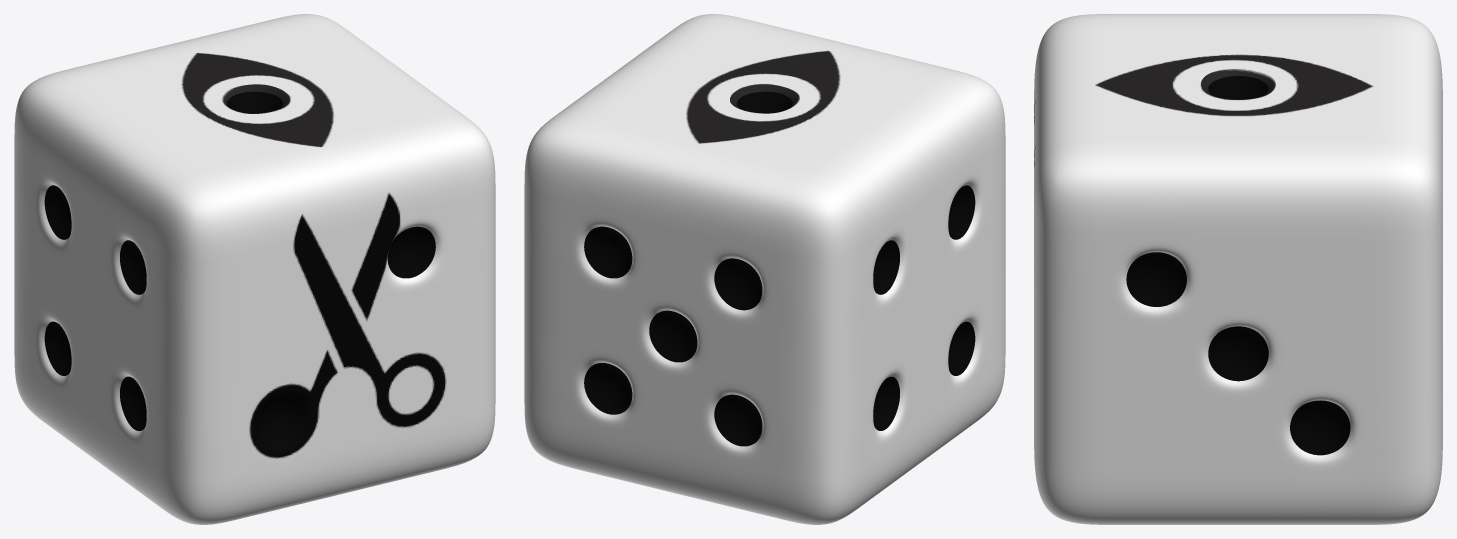
Rendered from Dice 2 Sides.fbx.
The picture shows the model from 3 angles, left to right: view 1: azimuth 30°, elevation 25°; view 2: azimuth 150°, elevation 25°; view 3: azimuth 270°, elevation 25°; orthographic projection. The views are drawn at different scales.
Parts seen in each view (by area): view 1: Cube; view 2: Cube; view 3: Cube.
Boxes of the visible parts, x1,y1,x2,y2 form: Cube: (14,14,495,524); Cube: (524,14,1005,524); Cube: (1034,14,1442,524).
Bounding box in the file's own units: 100 × 100 × 100.
